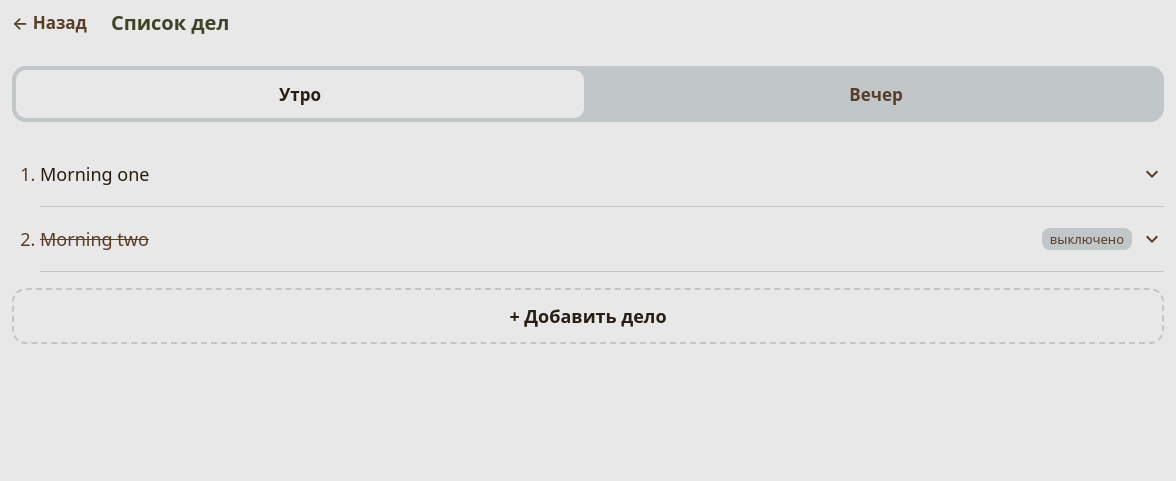
Scenario: Editor: adding › cancels with the button and with Escape
Click the button "+ Добавить дело".
click(588, 316)  # box [12,288,1164,344]
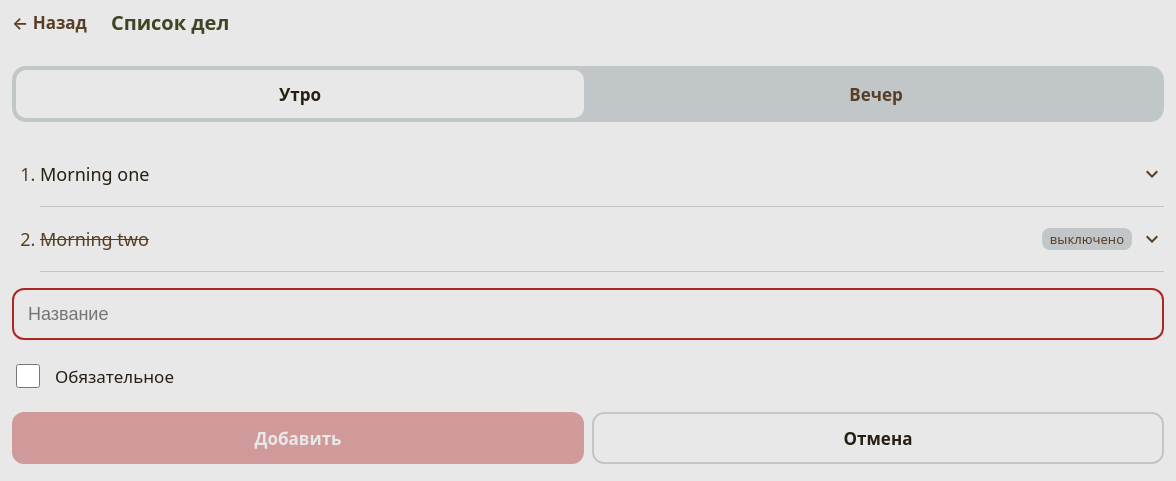
Type "Не нужно" into the field named "Название нового дела".
click(588, 314); type("Не нужно")  # box [12,288,1164,340]
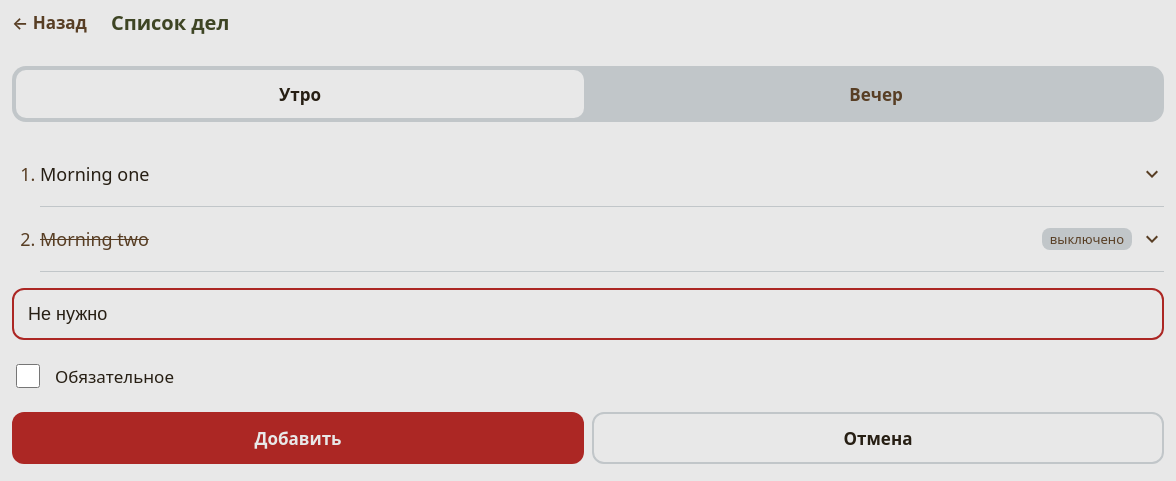
Click the button "Отмена".
click(878, 438)  # box [592,412,1164,464]
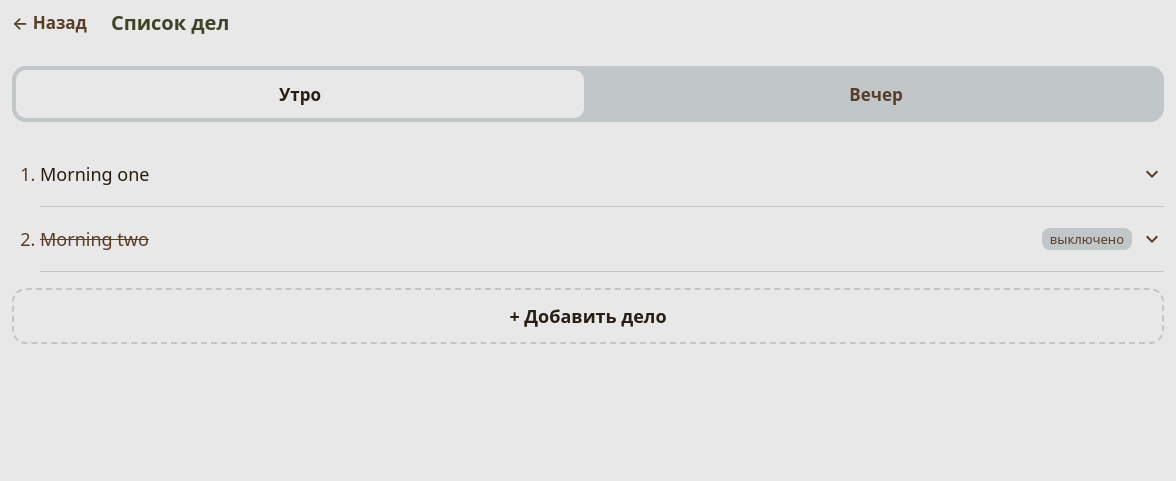
Result: the field is gone
Click the button "+ Добавить дело".
click(588, 316)  # box [12,288,1164,344]
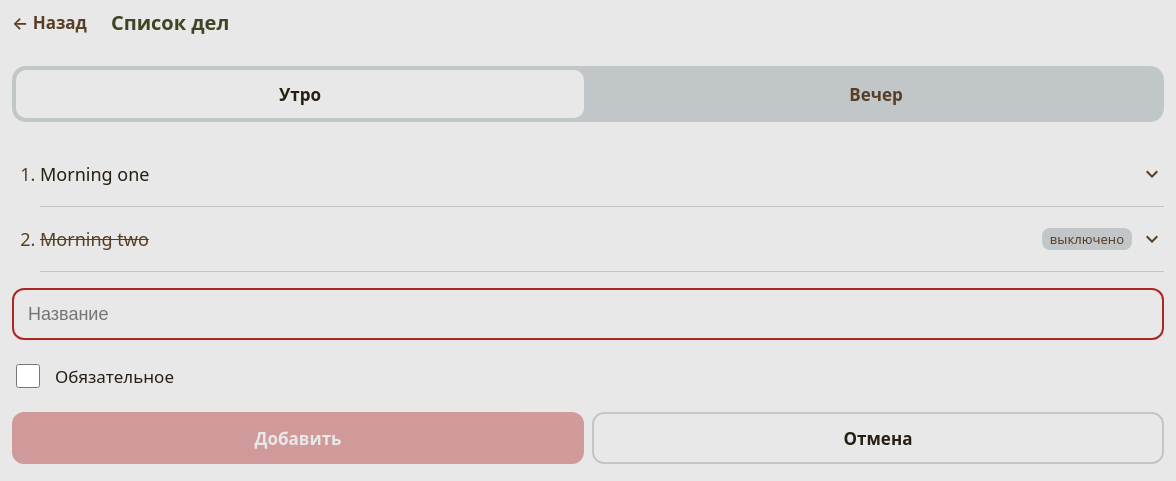
Type "Тоже не нужно" into the field named "Название нового дела".
click(588, 314); type("Тоже не нужно")  # box [12,288,1164,340]
Then press Escape
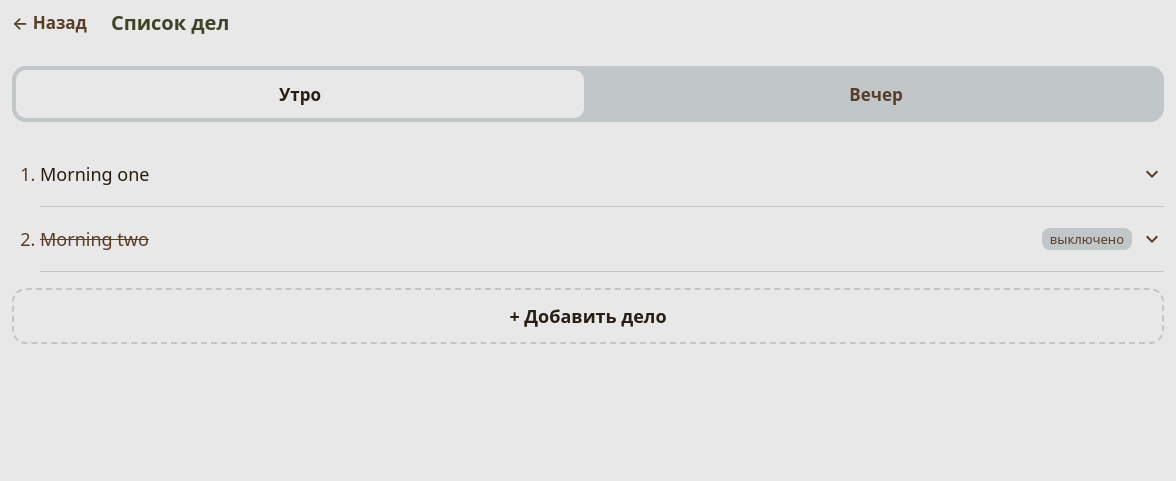
Result: the field is gone
